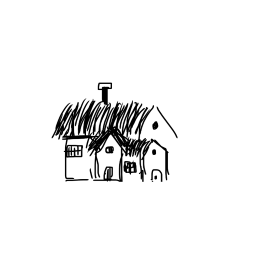chimney: (92, 71, 120, 108)
closed_window: (63, 143, 89, 161), (123, 158, 139, 179)
door: (148, 167, 167, 191)
shaded_roof: (45, 96, 157, 137)
small_house: (2, 1, 260, 260)
wall: (60, 130, 100, 183)
